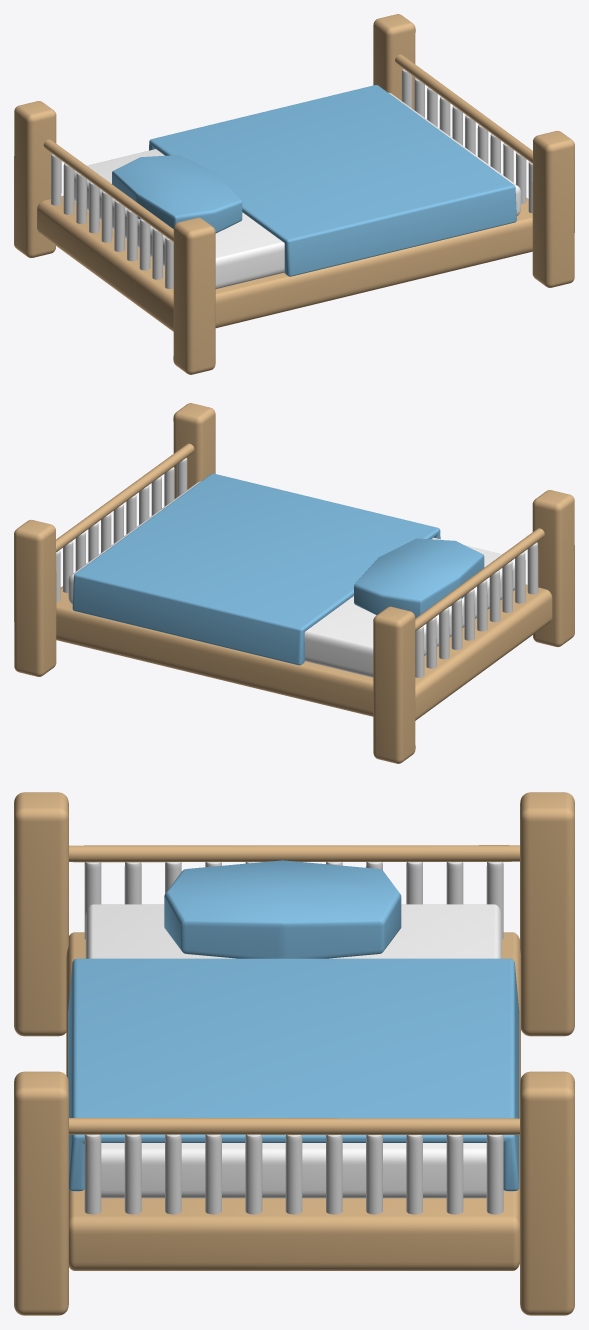
File: simple_single_bed.glb
The picture shows the model from 3 angles, top to bottom: view 1: azimuth 30°, elevation 25°; view 2: azimuth 150°, elevation 25°; view 3: azimuth 270°, elevation 25°; orthographic projection. The views are drawn at different scales.
Parts seen in each view (by area): view 1: simple_single_bed; view 2: simple_single_bed; view 3: simple_single_bed.
Boxes of the visible parts, left/top/right/bottom form: simple_single_bed: left=14, top=14, right=574, bottom=374; simple_single_bed: left=14, top=403, right=574, bottom=763; simple_single_bed: left=14, top=792, right=574, bottom=1315.
Bounding box in the file's own units: 1.87 × 0.665 × 1.48.
